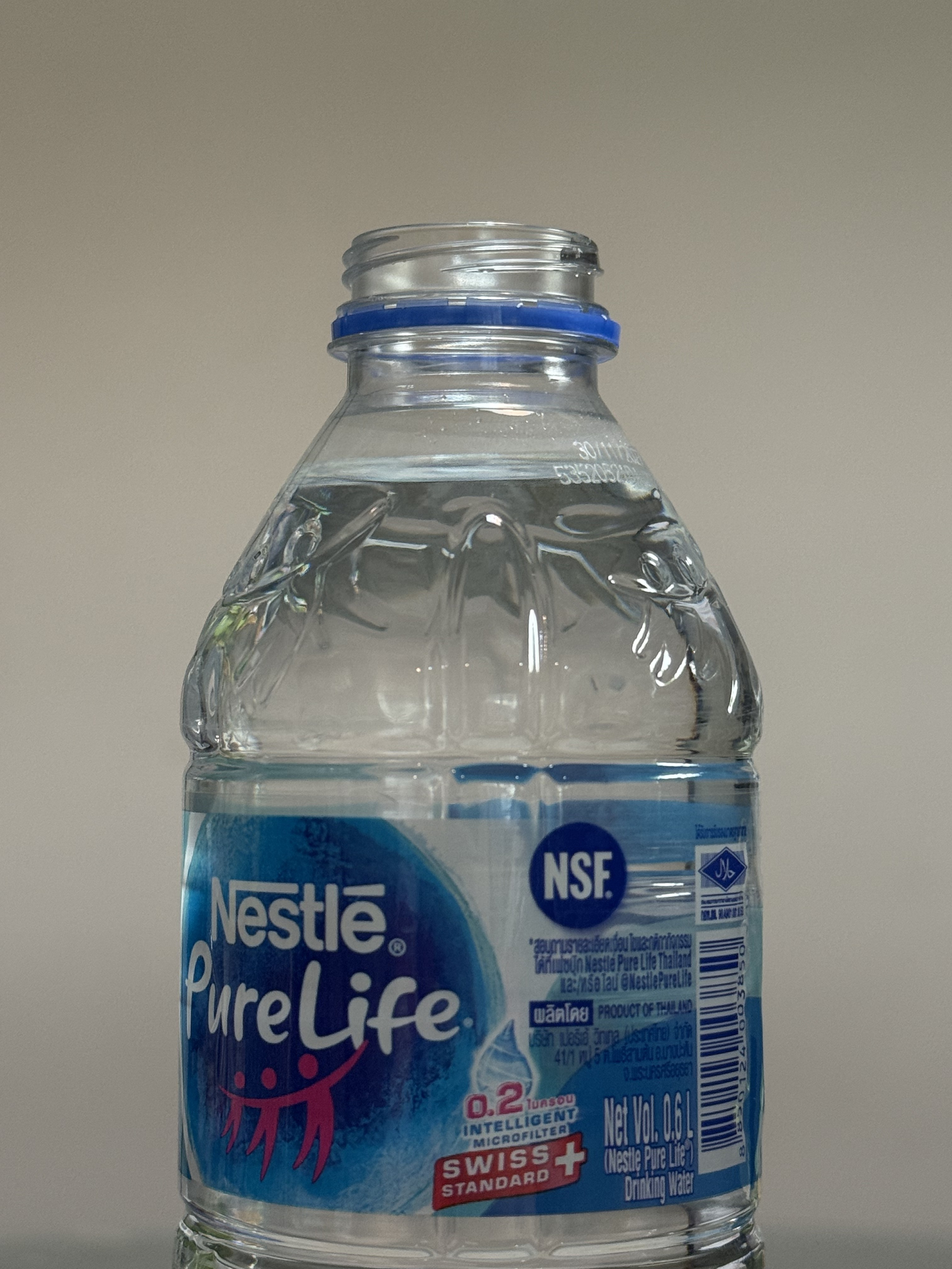no_cap: (326, 217, 625, 356)
